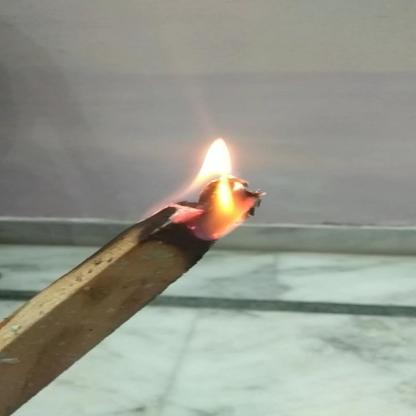fire: (140, 132, 282, 246)
